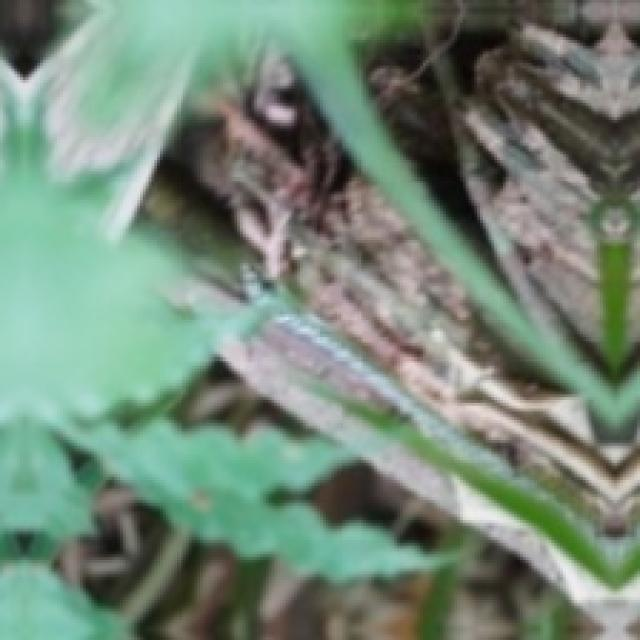paradise tree snake: (166, 0, 637, 637)
